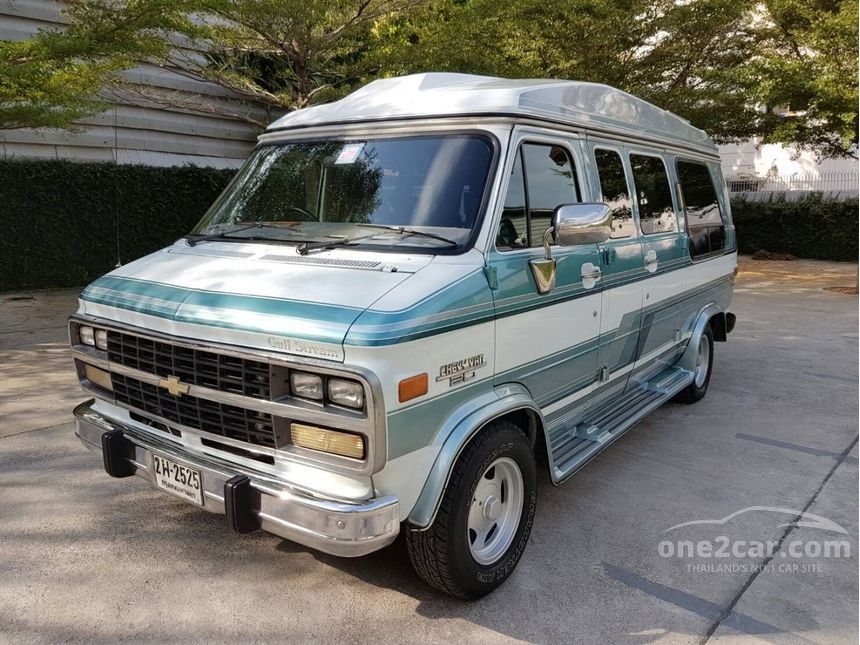van: (66, 69, 734, 603)
